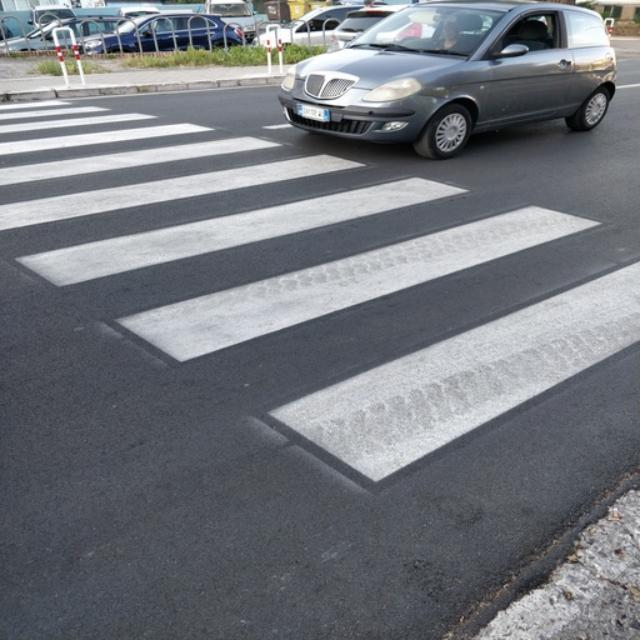sidewalk: (4, 98, 638, 504)
